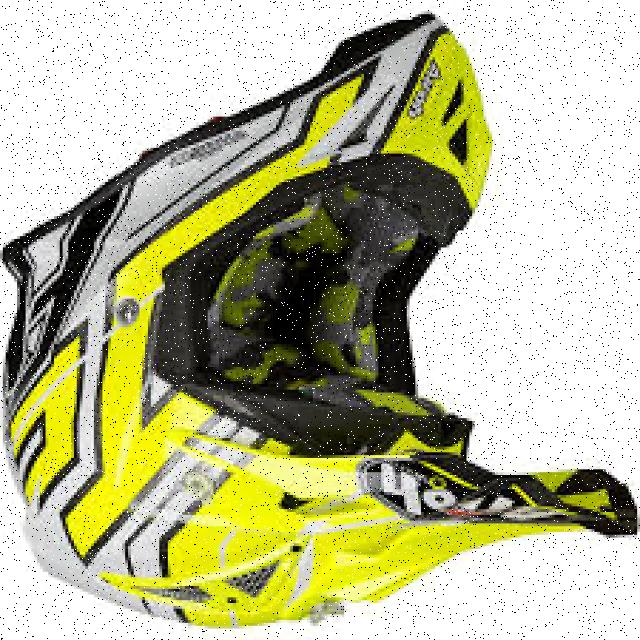Helmet: (4, 17, 636, 628)
